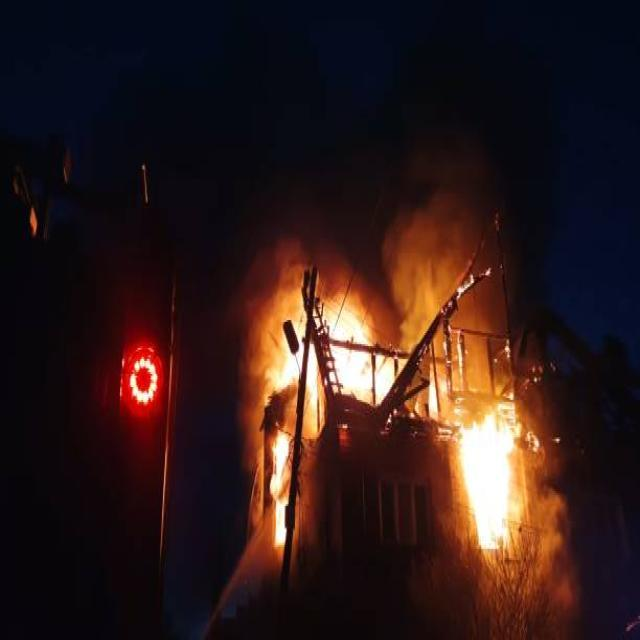Fire: (292, 303, 391, 402), (462, 410, 516, 550)
Smoke: (209, 49, 378, 422), (391, 42, 549, 394)
